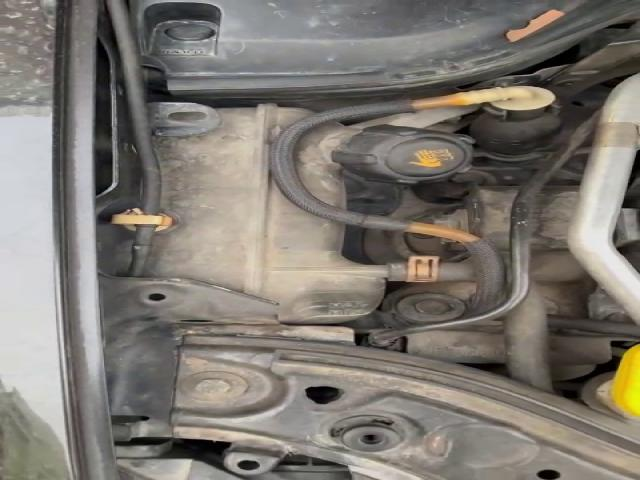antifreeze_tank: (148, 105, 386, 323), (296, 123, 473, 208)
